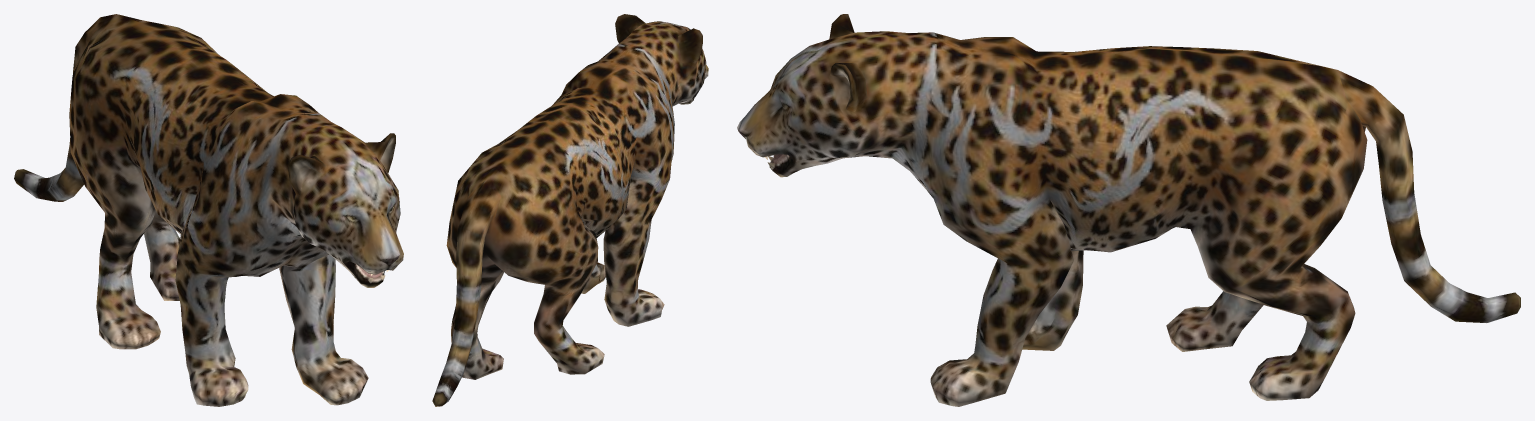
Rendered from body-mediumgreattemplesoldiers.glb.
3 renders of one model, left to right at view 1: azimuth 30°, elevation 25°; view 2: azimuth 150°, elevation 25°; view 3: azimuth 270°, elevation 25°, orthographic. The views are drawn at different scales.
Bounding box in the file's own units: 0.8146 × 1.55 × 3.27.
1 material, 1 textured.
